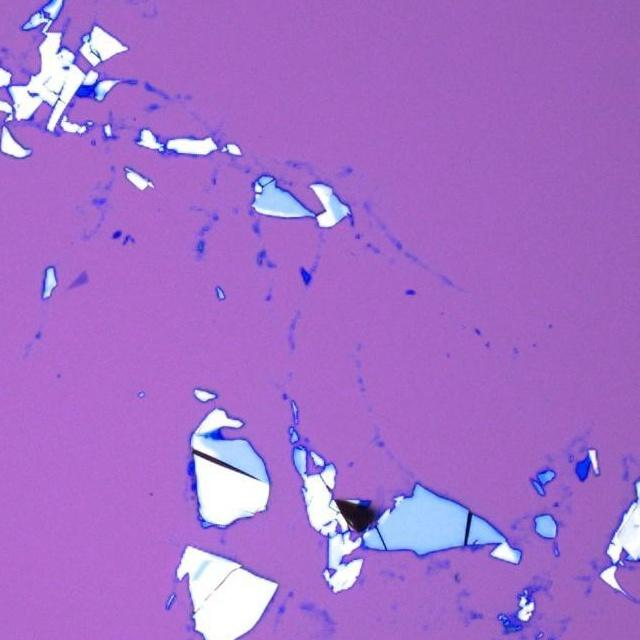monolayer-eWW4: (66, 269, 90, 289)
